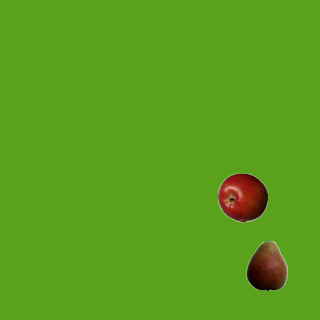Apple Braeburn: (217, 172, 267, 222)
Pear Forelle: (241, 240, 291, 290)
